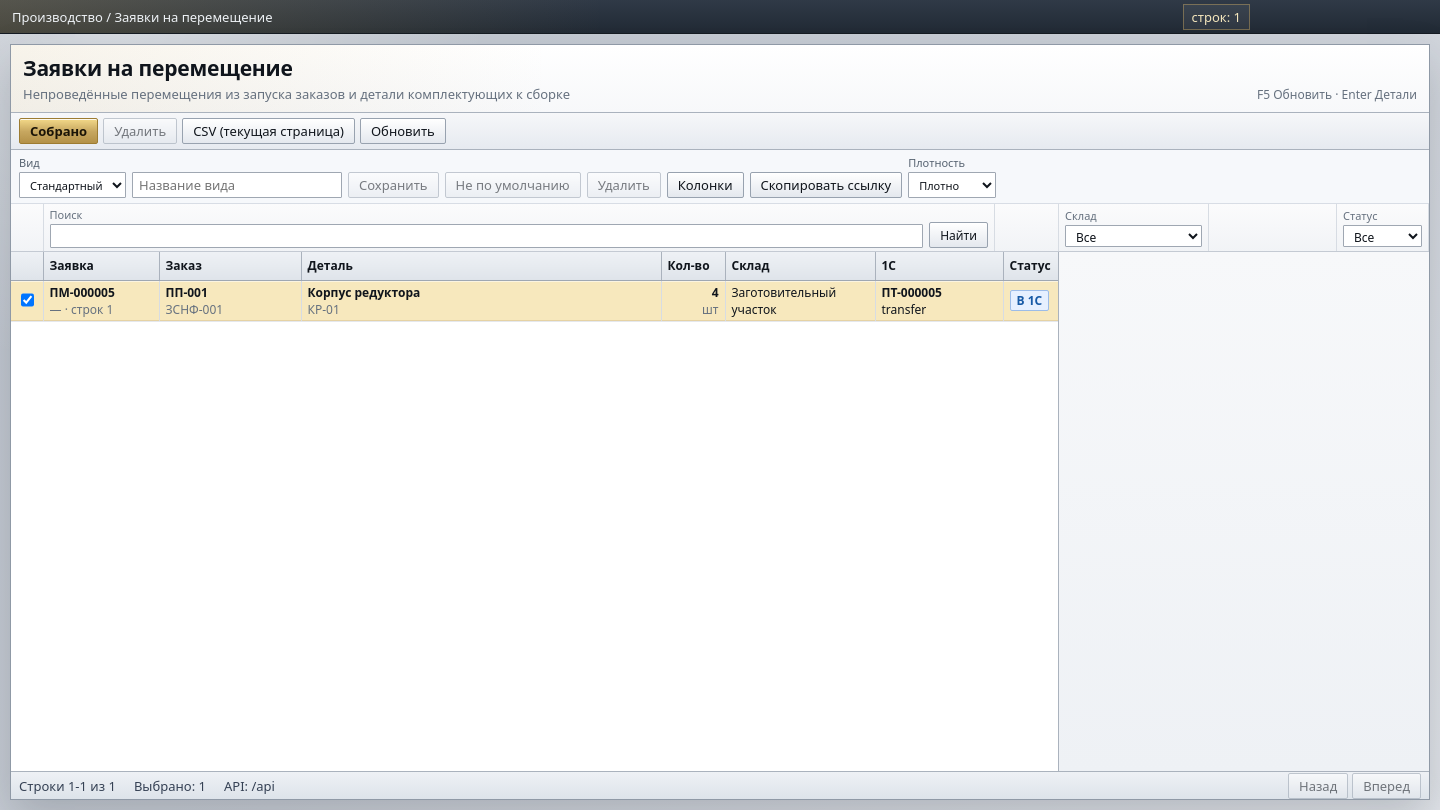
TransferRequestsPage Doctype migration › keeps explicit search submit and the assembled action
This screenshot has width=1440, height=810.
Expected: the text "ПМ-000005" is shown, x1=50 y1=284 x2=115 y2=300
Type "редуктор" into the field labelled "Поиск". click: (486, 236)
box: x1=50 y1=224 x2=923 y2=248
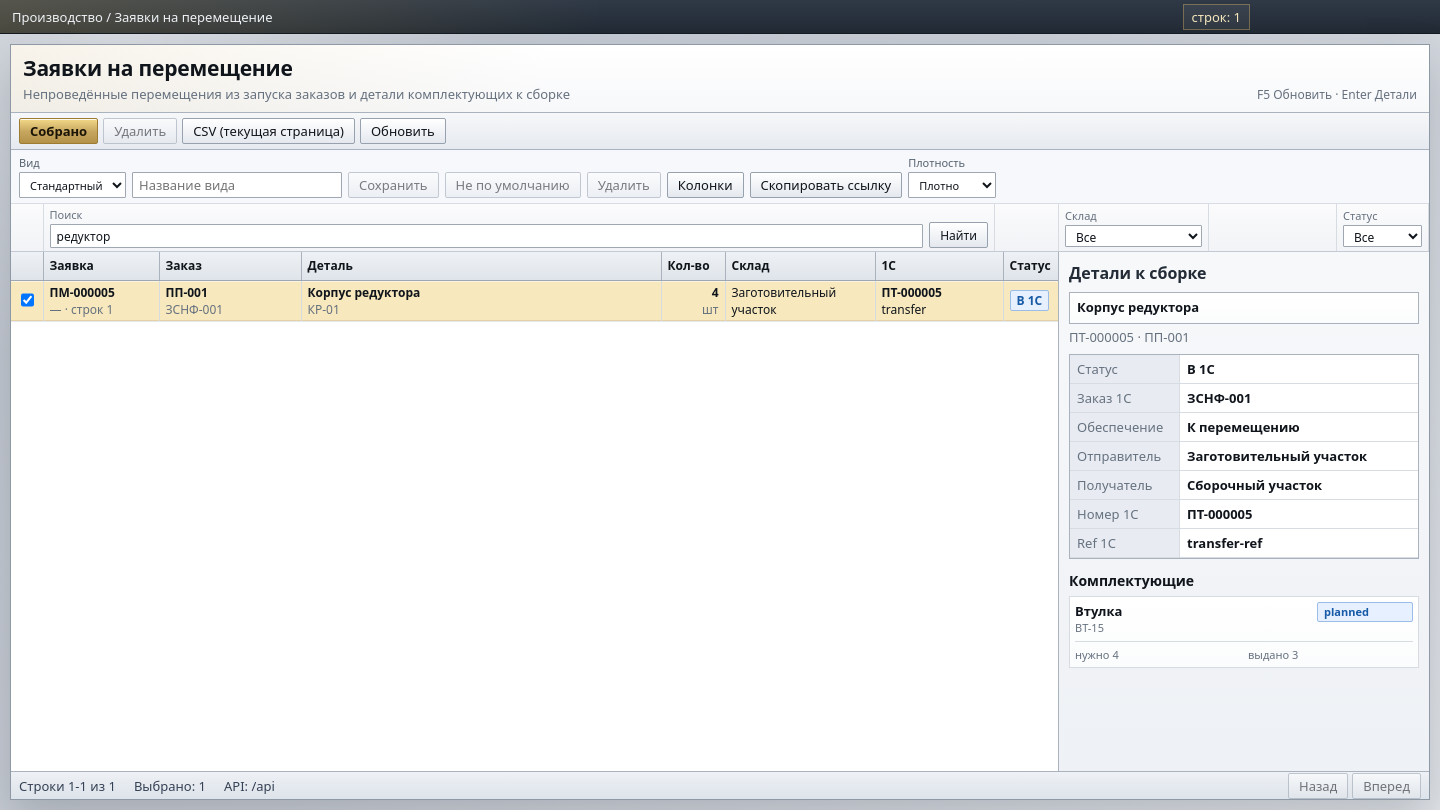
Press Enter in the field labelled "Поиск", box x1=50 y1=224 x2=923 y2=248
Click the button "Собрано". click: (59, 131)
box: x1=19 y1=118 x2=98 y2=144
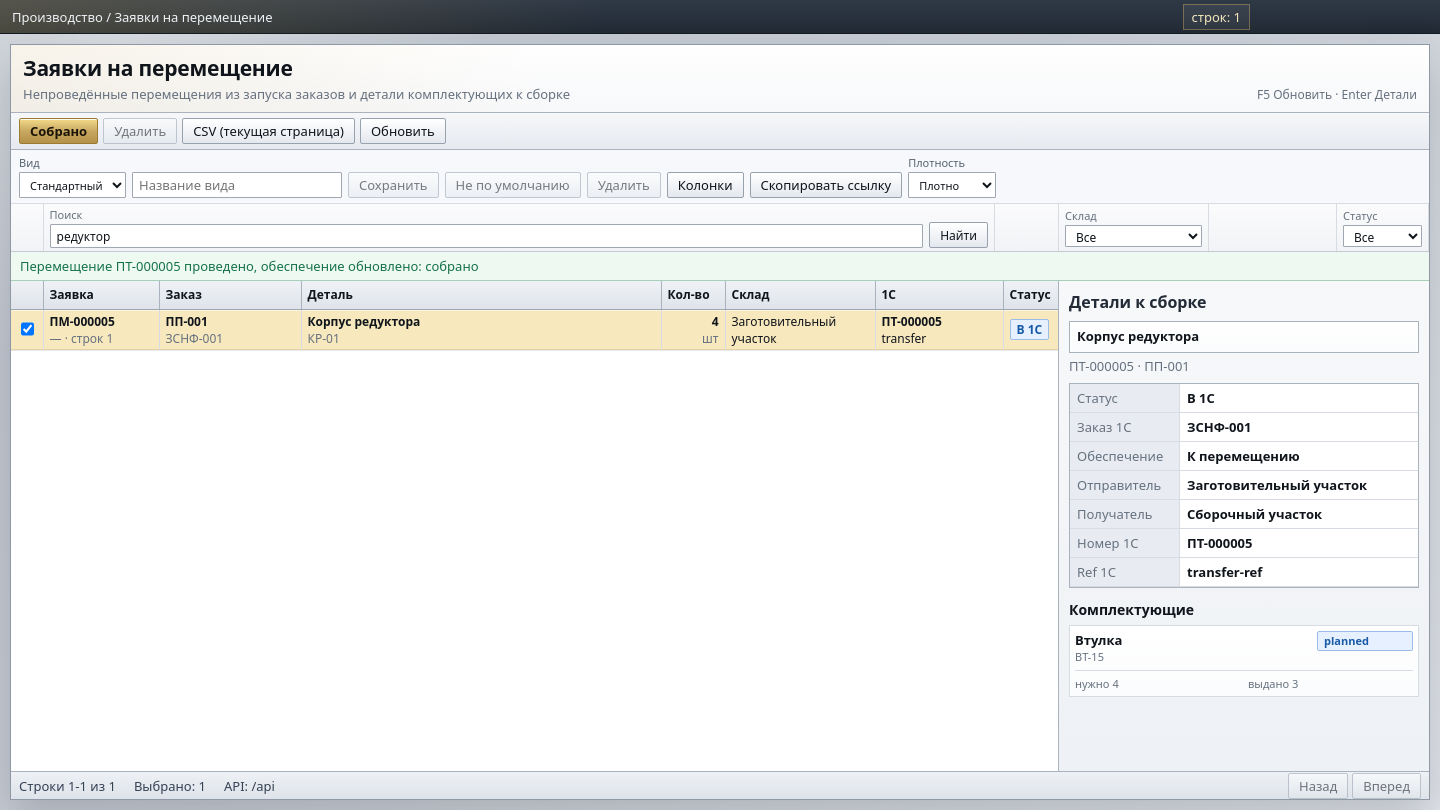
Expected: the text "Перемещение ПТ-000005 проведено, обеспечение обновлено: собрано" is shown, x1=11 y1=252 x2=1429 y2=281
